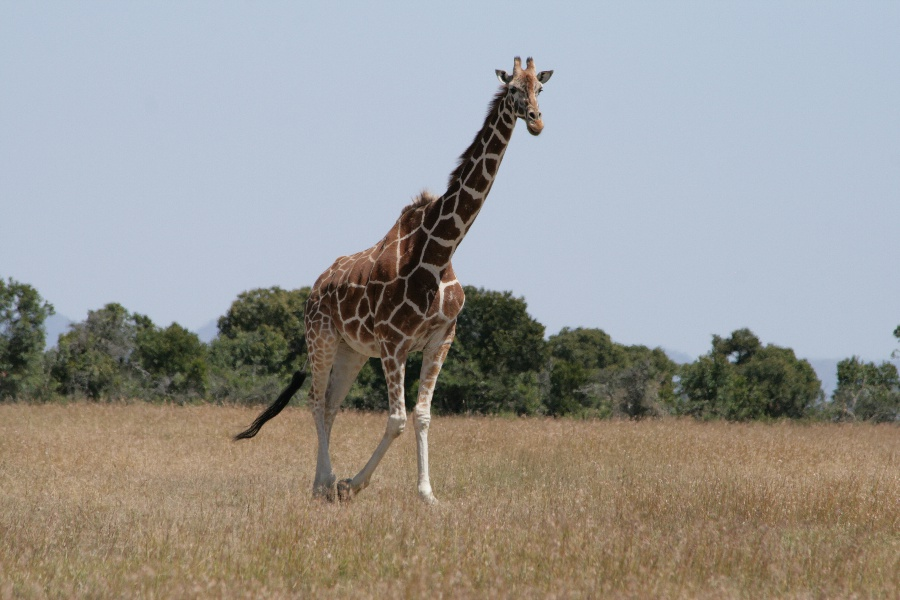giraffe: (277, 45, 563, 504)
